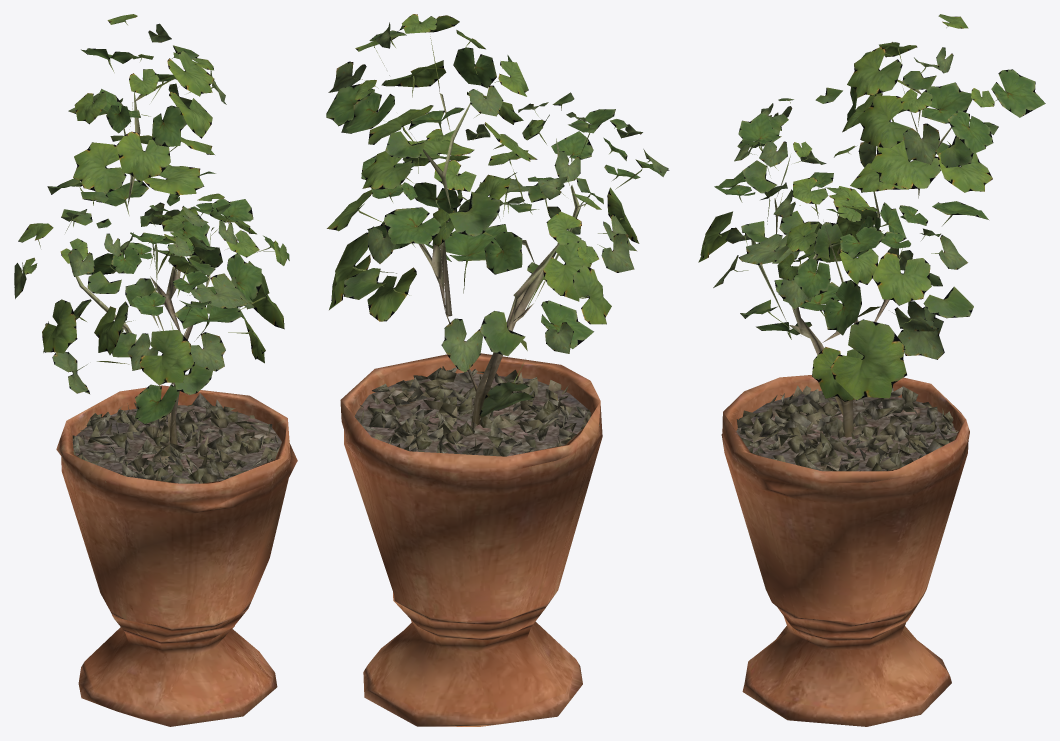
File: potted_plant_01.glb
3 renders of one model, left to right at view 1: azimuth 30°, elevation 25°; view 2: azimuth 150°, elevation 25°; view 3: azimuth 270°, elevation 25°, orthographic. The views are drawn at different scales.
Parts seen in each view (by area): view 1: potted_plant_01_stem, potted_plant_01_leaves; view 2: potted_plant_01_stem, potted_plant_01_leaves; view 3: potted_plant_01_stem, potted_plant_01_leaves.
Part boxes in pixels (left/top/right/bottom): potted_plant_01_stem: left=56, top=92, right=297, bottom=726; potted_plant_01_leaves: left=14, top=14, right=289, bottom=423; potted_plant_01_stem: left=340, top=89, right=602, bottom=726; potted_plant_01_leaves: left=326, top=14, right=669, bottom=417; potted_plant_01_stem: left=721, top=88, right=969, bottom=726; potted_plant_01_leaves: left=698, top=14, right=1045, bottom=401.
Size of the model in its own units: 0.5866 by 1.33 by 0.6336.
2 materials, 2 textured.
